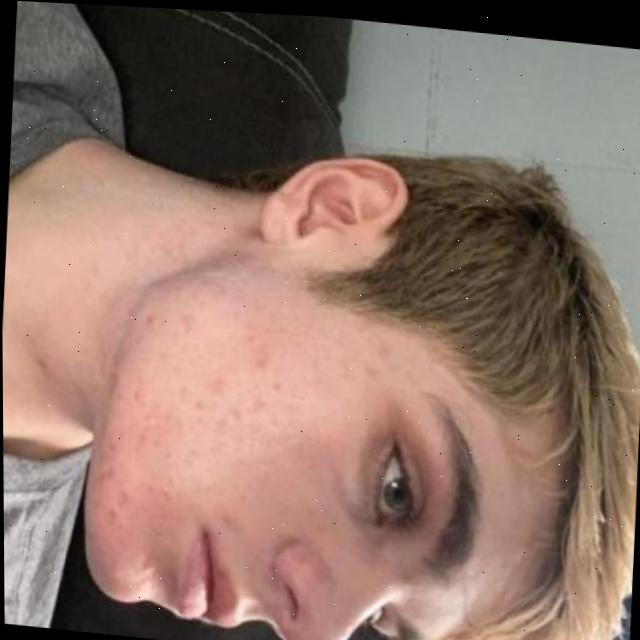Acne: (41, 271, 372, 557)
